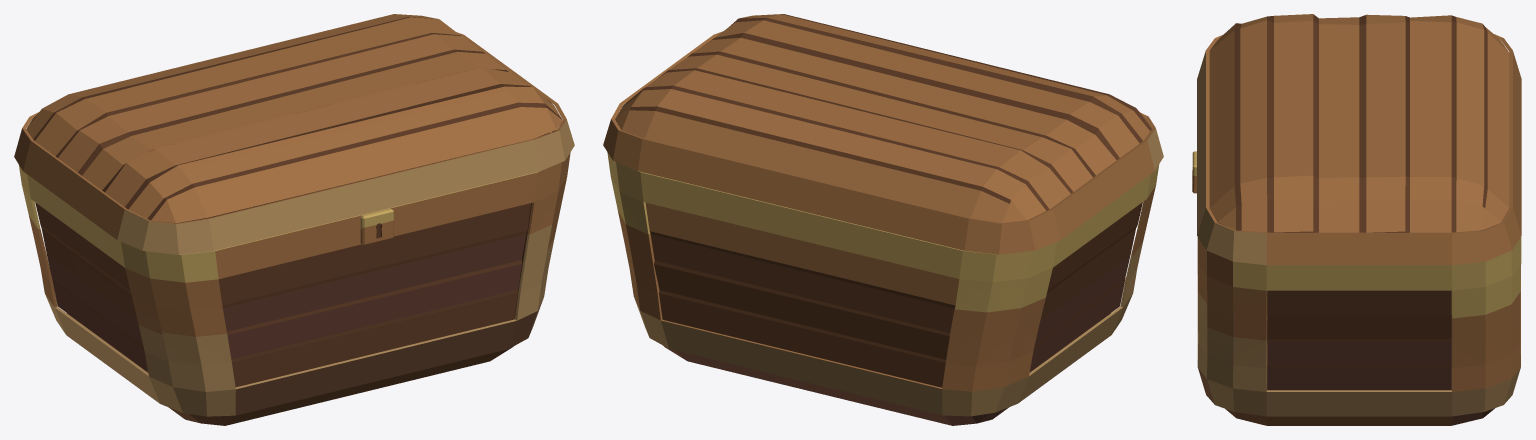
The model's file is chest.glb.
The picture shows the model from 3 angles, left to right: view 1: azimuth 30°, elevation 25°; view 2: azimuth 150°, elevation 25°; view 3: azimuth 270°, elevation 25°; orthographic projection.
Visible parts, largest first — view 1: Chest.001; view 2: Chest.001; view 3: Chest.001.
Part boxes in pixels (bbox=[...]): Chest.001: bbox=[14, 14, 574, 425]; Chest.001: bbox=[603, 14, 1163, 425]; Chest.001: bbox=[1192, 14, 1521, 425].
Bounding box in the file's own units: 0.7 × 0.3961 × 0.4512.
